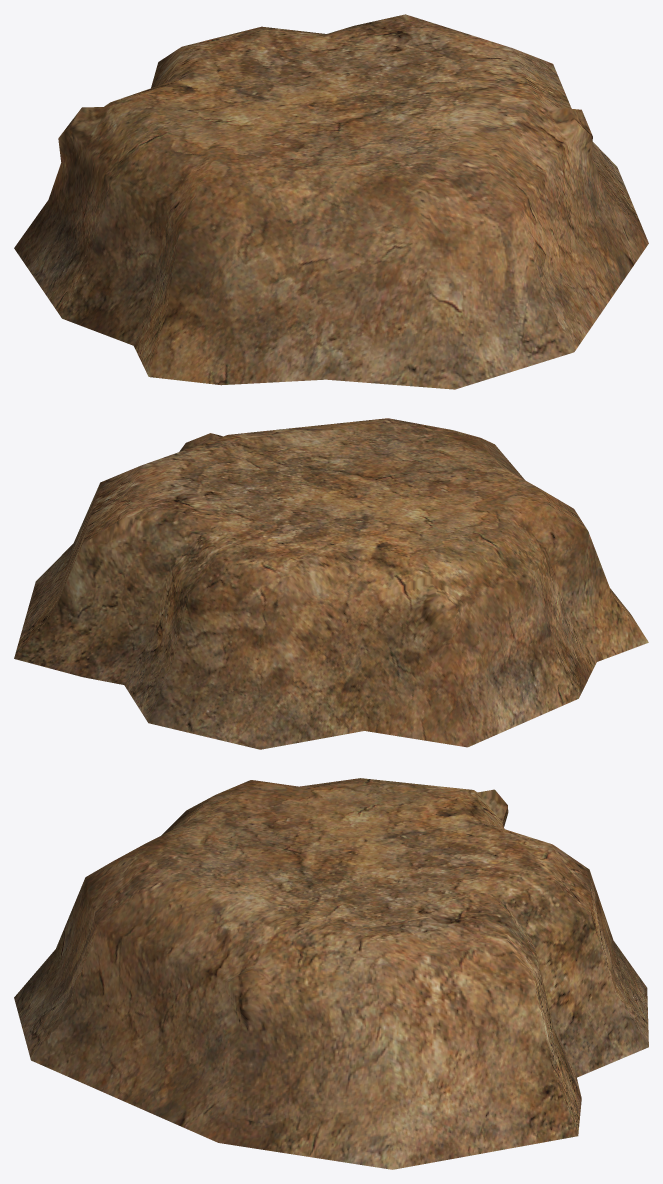
The model's file is Desert_bigrock01.FBX.
The picture shows the model from 3 angles, top to bottom: view 1: azimuth 30°, elevation 25°; view 2: azimuth 150°, elevation 25°; view 3: azimuth 270°, elevation 25°; orthographic projection. The views are drawn at different scales.
Parts seen in each view (by area): view 1: Line001; view 2: Line001; view 3: Line001.
Boxes of the visible parts, left/top/right/bottom form: Line001: left=14, top=14, right=648, bottom=389; Line001: left=14, top=418, right=648, bottom=749; Line001: left=14, top=778, right=648, bottom=1169.
Size of the model in its own units: 98.41 by 25.66 by 93.81.
1 material, 1 textured.
